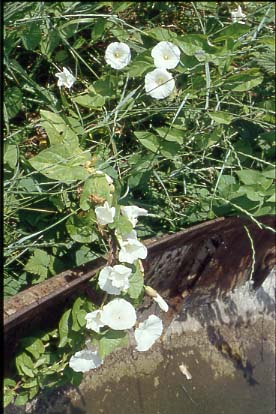haagwinde: (80, 198, 175, 356), (87, 31, 191, 107), (26, 105, 91, 191), (209, 158, 276, 222), (129, 121, 199, 166)
